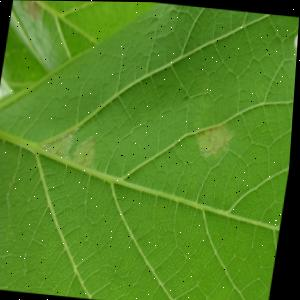Folha: (0, 0, 300, 300)
Fungo: (40, 124, 101, 169), (194, 119, 237, 161), (42, 128, 77, 158), (72, 132, 101, 168), (19, 0, 44, 23), (209, 128, 213, 132)
